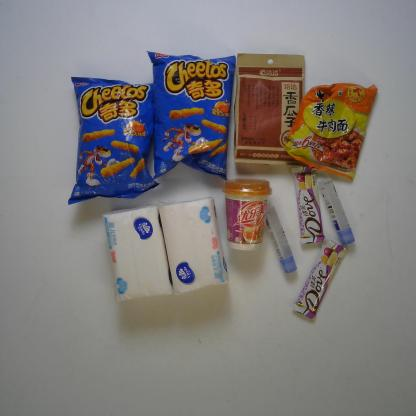Chocolate: (292, 240, 348, 321), (292, 165, 327, 246)
Dried Food: (233, 51, 309, 167)
Instant Drink: (222, 174, 273, 252)
Instant Noodles: (283, 82, 381, 182)
Puffed Food: (146, 47, 237, 181), (66, 74, 158, 206)
Stationery: (320, 178, 355, 245), (264, 204, 296, 273)
Tissue: (158, 197, 230, 296), (104, 204, 172, 304)
